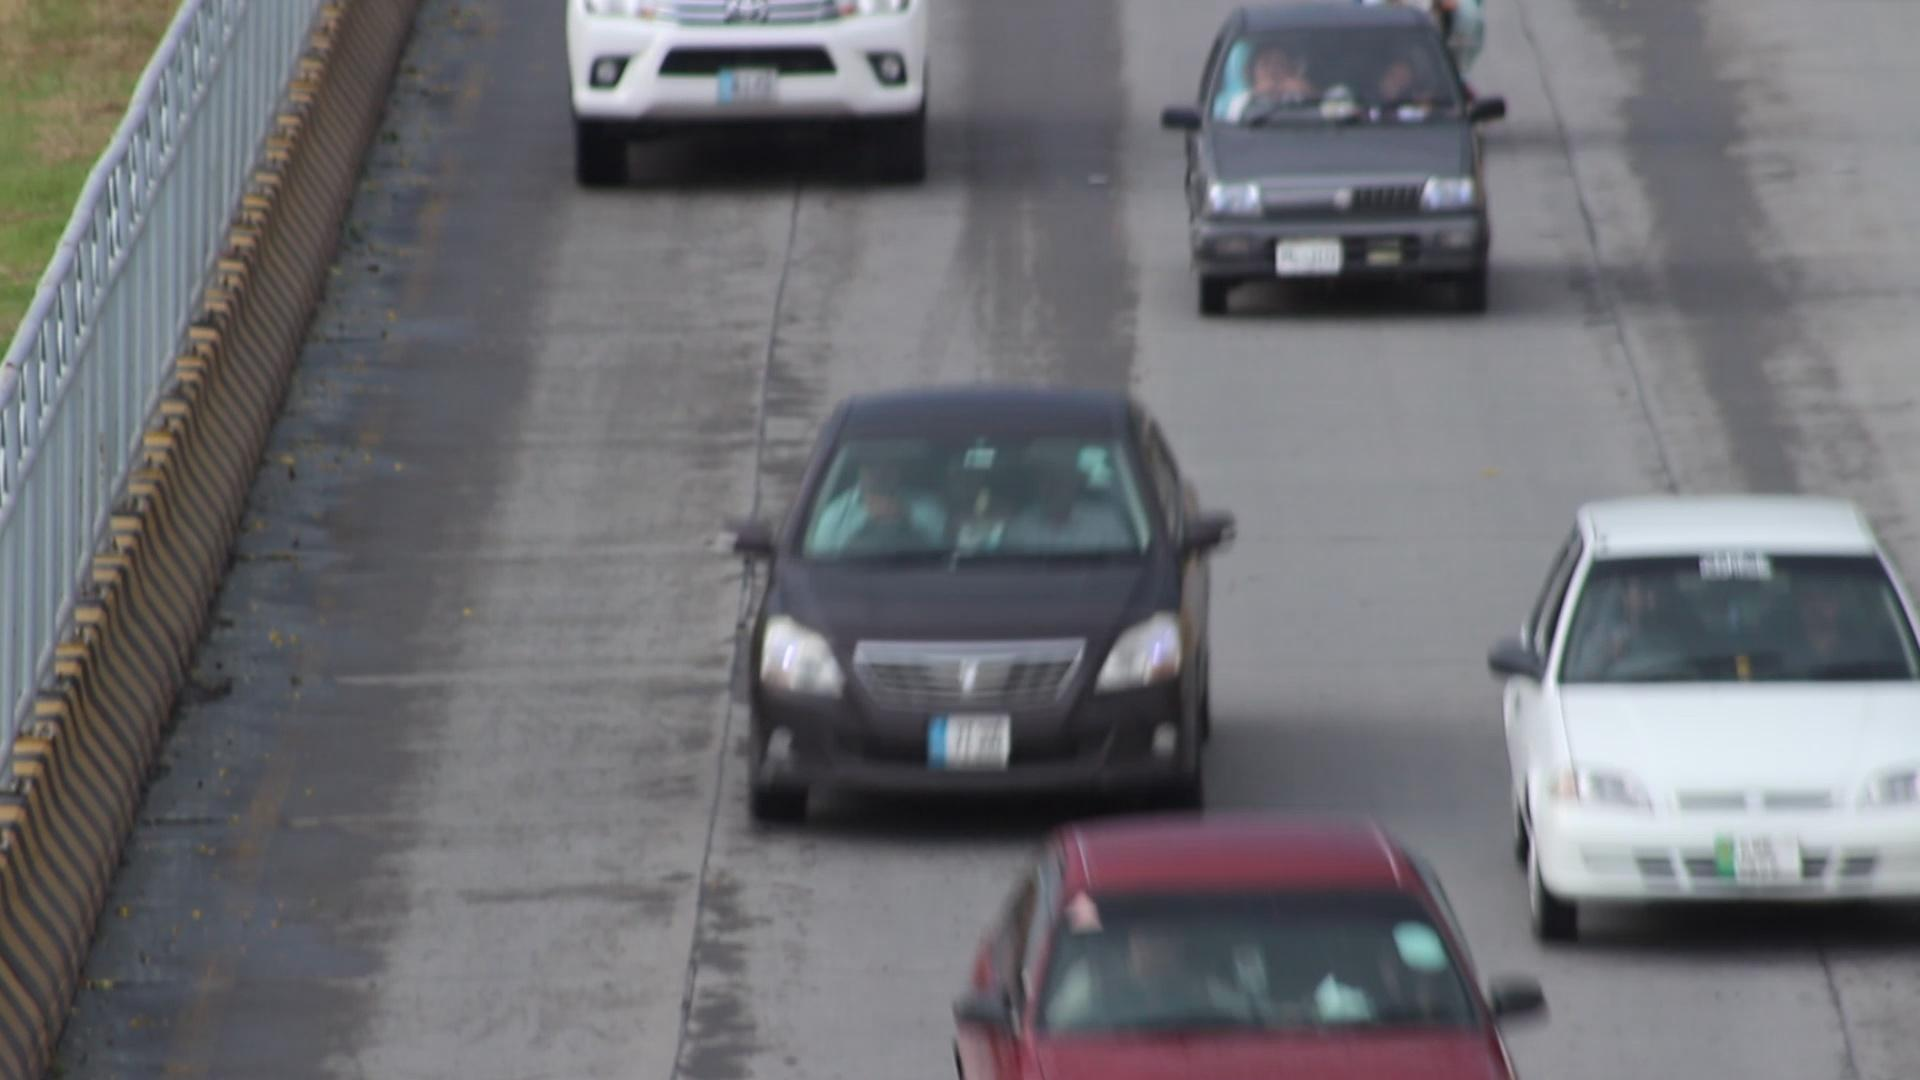windshield: (1023, 866, 1501, 1047), (777, 413, 1167, 576), (1551, 550, 1920, 700), (1193, 13, 1481, 131)
